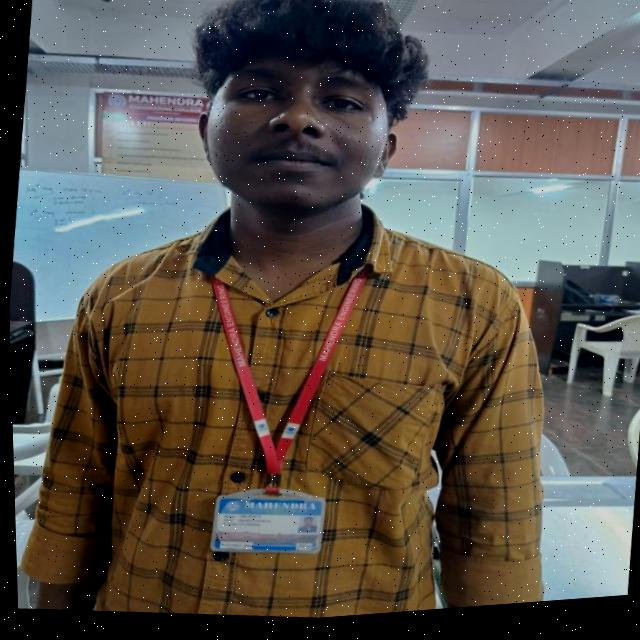id_card: (174, 257, 371, 575)
